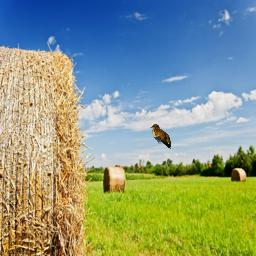Cuckoo: (150, 124, 171, 149)
